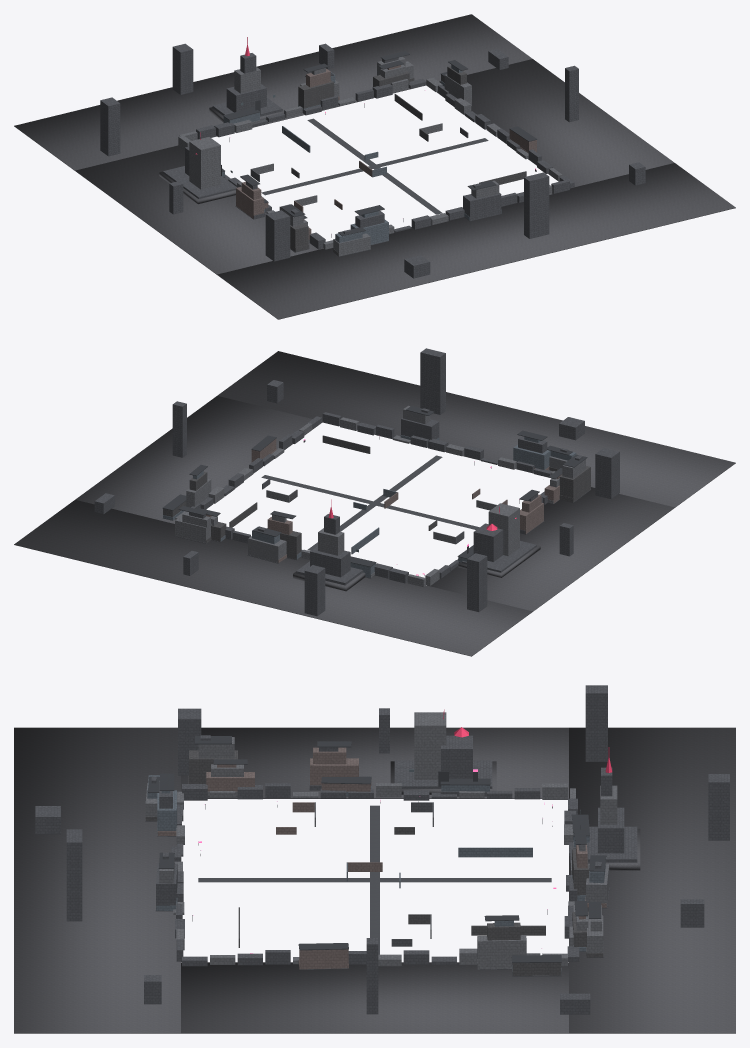
File: yoichi-lod2.glb
The picture shows the model from 3 angles, top to bottom: view 1: azimuth 30°, elevation 25°; view 2: azimuth 150°, elevation 25°; view 3: azimuth 270°, elevation 25°; orthographic projection. The views are drawn at different scales.
Parts seen in each view (by area): view 1: HB_yoichi_LOD2_terrain, HB_yoichi_LOD2_wall_alt, HB_yoichi_LOD2_wall, HB_yoichi_LOD2_wall_weathered, HB_yoichi_LOD2_road, HB_yoichi_LOD2_trim, HB_yoichi_LOD2_wall_warm, HB_yoichi_LOD2_wall_cool, HB_yoichi_LOD2_LANDMARK_1_wall, HB_yoichi_LOD2_LANDMARK_0_wall_alt, HB_yoichi_LOD2_LANDMARK_1_wall_alt, HB_yoichi_LOD2_LANDMARK_0_wall; view 2: HB_yoichi_LOD2_terrain, HB_yoichi_LOD2_wall_alt, HB_yoichi_LOD2_wall, HB_yoichi_LOD2_wall_weathered, HB_yoichi_LOD2_trim, HB_yoichi_LOD2_wall_cool, HB_yoichi_LOD2_wall_warm, HB_yoichi_LOD2_road, HB_yoichi_LOD2_LANDMARK_0_wall_alt, HB_yoichi_LOD2_LANDMARK_1_wall_alt, HB_yoichi_LOD2_LANDMARK_1_wall, HB_yoichi_LOD2_LANDMARK_0_wall; view 3: HB_yoichi_LOD2_terrain, HB_yoichi_LOD2_wall_alt, HB_yoichi_LOD2_wall, HB_yoichi_LOD2_wall_warm, HB_yoichi_LOD2_trim, HB_yoichi_LOD2_wall_weathered, HB_yoichi_LOD2_road, HB_yoichi_LOD2_wall_cool, HB_yoichi_LOD2_LANDMARK_1_wall_alt, HB_yoichi_LOD2_LANDMARK_0_wall_alt, HB_yoichi_LOD2_LANDMARK_1_wall, HB_yoichi_LOD2_LANDMARK_0_wall.
Part boxes in pixels (x1,y1,x2,y2): HB_yoichi_LOD2_terrain: (14,14,735,319); HB_yoichi_LOD2_wall_alt: (100,43,645,278); HB_yoichi_LOD2_wall: (178,56,562,256); HB_yoichi_LOD2_wall_weathered: (290,66,526,255); HB_yoichi_LOD2_road: (261,118,488,214); HB_yoichi_LOD2_trim: (222,51,537,237); HB_yoichi_LOD2_wall_warm: (236,65,536,239); HB_yoichi_LOD2_wall_cool: (222,64,501,244); HB_yoichi_LOD2_LANDMARK_1_wall: (189,137,220,189); HB_yoichi_LOD2_LANDMARK_0_wall_alt: (212,53,282,116); HB_yoichi_LOD2_LANDMARK_1_wall_alt: (163,146,236,198); HB_yoichi_LOD2_LANDMARK_0_wall: (234,67,260,93); HB_yoichi_LOD2_terrain: (14,351,735,656); HB_yoichi_LOD2_wall_alt: (94,348,619,616); HB_yoichi_LOD2_wall: (175,405,585,587); HB_yoichi_LOD2_wall_weathered: (163,435,590,559); HB_yoichi_LOD2_trim: (162,405,587,575); HB_yoichi_LOD2_wall_cool: (163,435,576,577); HB_yoichi_LOD2_wall_warm: (206,439,562,562); HB_yoichi_LOD2_road: (261,455,479,550); HB_yoichi_LOD2_LANDMARK_0_wall_alt: (296,514,363,585); HB_yoichi_LOD2_LANDMARK_1_wall_alt: (462,523,536,572); HB_yoichi_LOD2_LANDMARK_1_wall: (488,503,519,556); HB_yoichi_LOD2_LANDMARK_0_wall: (318,528,344,555); HB_yoichi_LOD2_terrain: (14,727,735,1033); HB_yoichi_LOD2_wall_alt: (35,685,729,1014); HB_yoichi_LOD2_wall: (145,737,609,969); HB_yoichi_LOD2_wall_warm: (157,747,606,969); HB_yoichi_LOD2_trim: (148,736,606,962); HB_yoichi_LOD2_wall_weathered: (145,750,603,975); HB_yoichi_LOD2_road: (198,805,551,954); HB_yoichi_LOD2_wall_cool: (147,775,605,975); HB_yoichi_LOD2_LANDMARK_1_wall_alt: (394,735,492,788); HB_yoichi_LOD2_LANDMARK_0_wall_alt: (586,767,637,862); HB_yoichi_LOD2_LANDMARK_1_wall: (414,712,446,779); HB_yoichi_LOD2_LANDMARK_0_wall: (600,785,617,824).
Size of the model in its own units: 562 by 91.53 by 562.
Materials: 11 (9 with a texture image).
